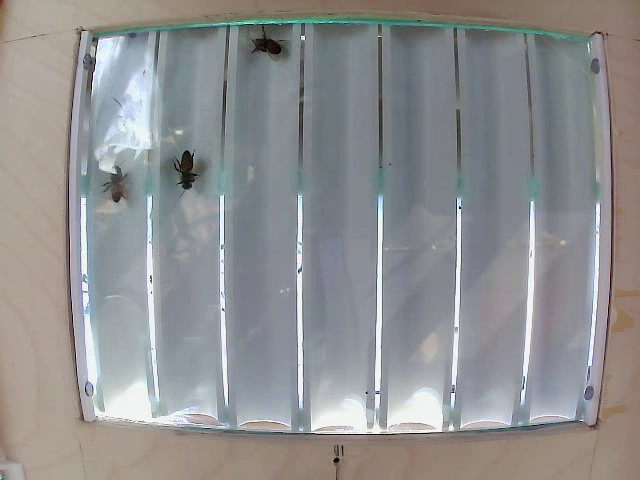bee: (167, 139, 215, 198), (99, 171, 144, 215), (249, 40, 290, 81)
